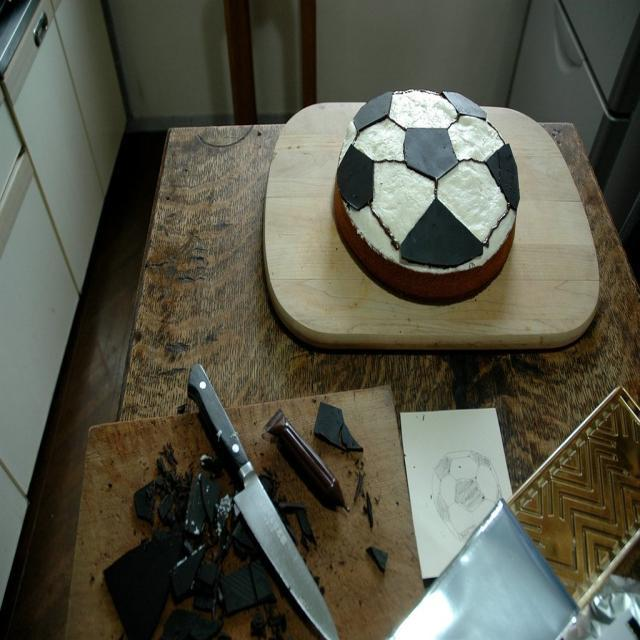Knife: (188, 364, 339, 640)
